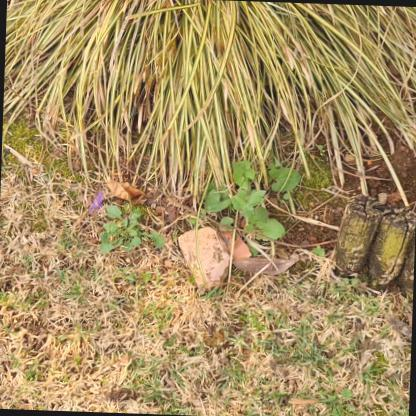Weeds: (203, 157, 302, 258), (99, 204, 165, 255)
